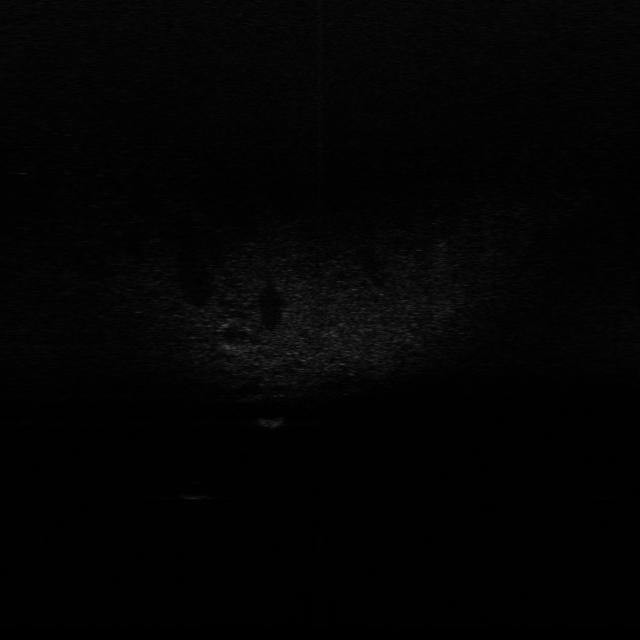ball: (180, 476, 210, 504)
cube: (262, 412, 288, 431)
